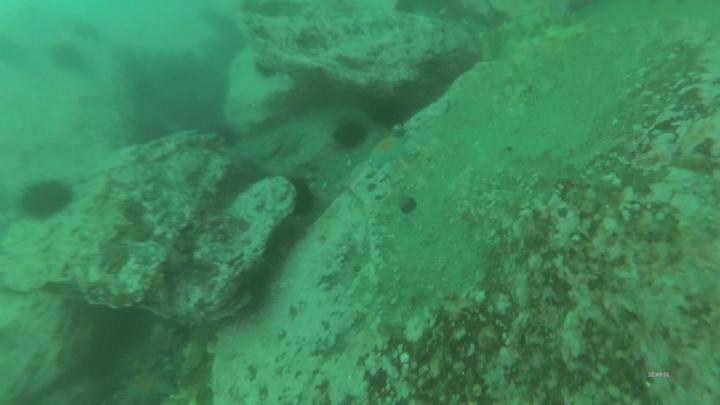echinus: (20, 180, 76, 220), (285, 177, 319, 221), (48, 40, 86, 75), (366, 96, 404, 130), (331, 120, 371, 152)
holothurian: (513, 19, 592, 56), (499, 7, 562, 43)
starfish: (365, 135, 414, 170), (130, 370, 177, 405)
